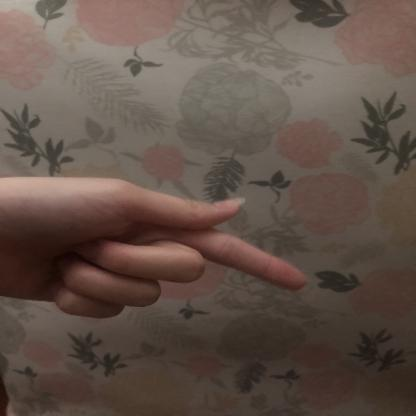finger_point: (150, 217, 311, 291)
